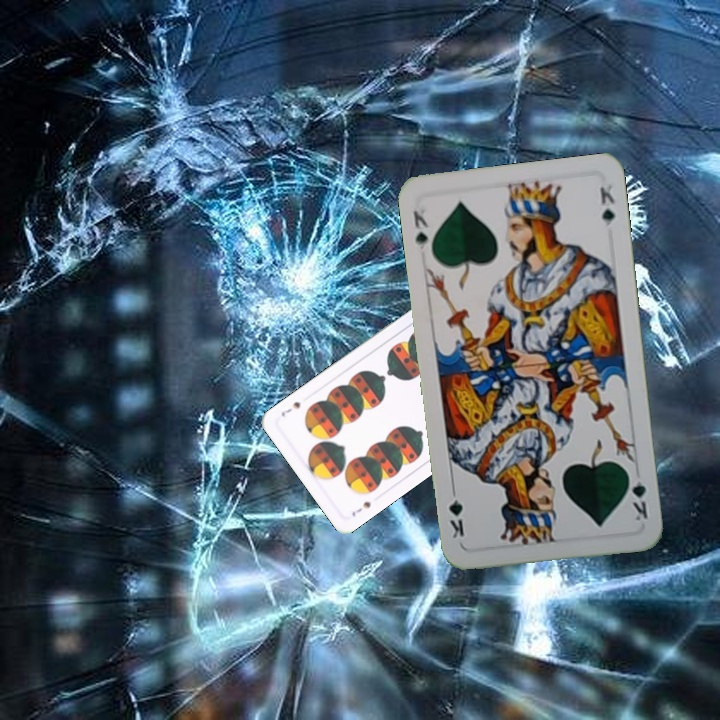GK: (624, 467, 650, 523), (409, 205, 431, 252)
S7: (348, 497, 373, 519)
